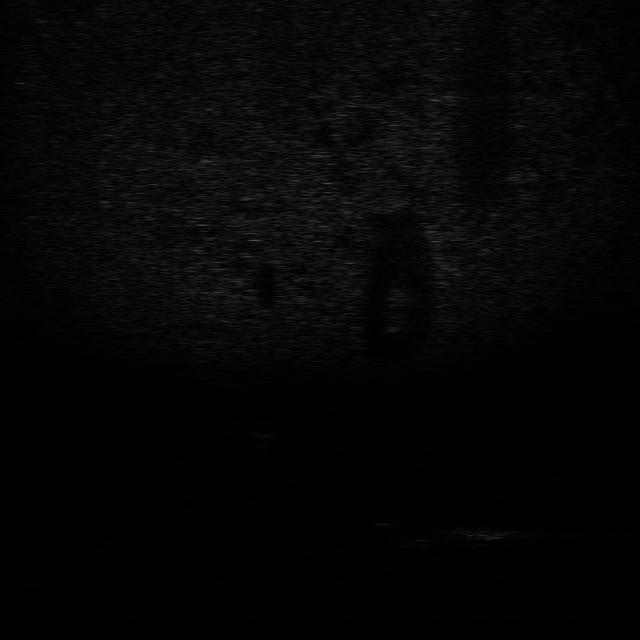ball: (242, 417, 282, 442)
metal bucket: (448, 524, 528, 548)
tyre: (370, 520, 445, 550)
